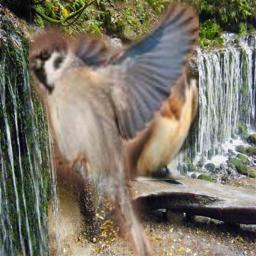Sparrow: (29, 0, 199, 256)
Swallow: (124, 40, 199, 180)
